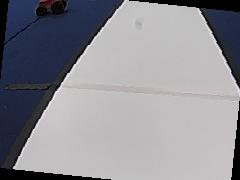Tracktor: (34, 1, 68, 21)
